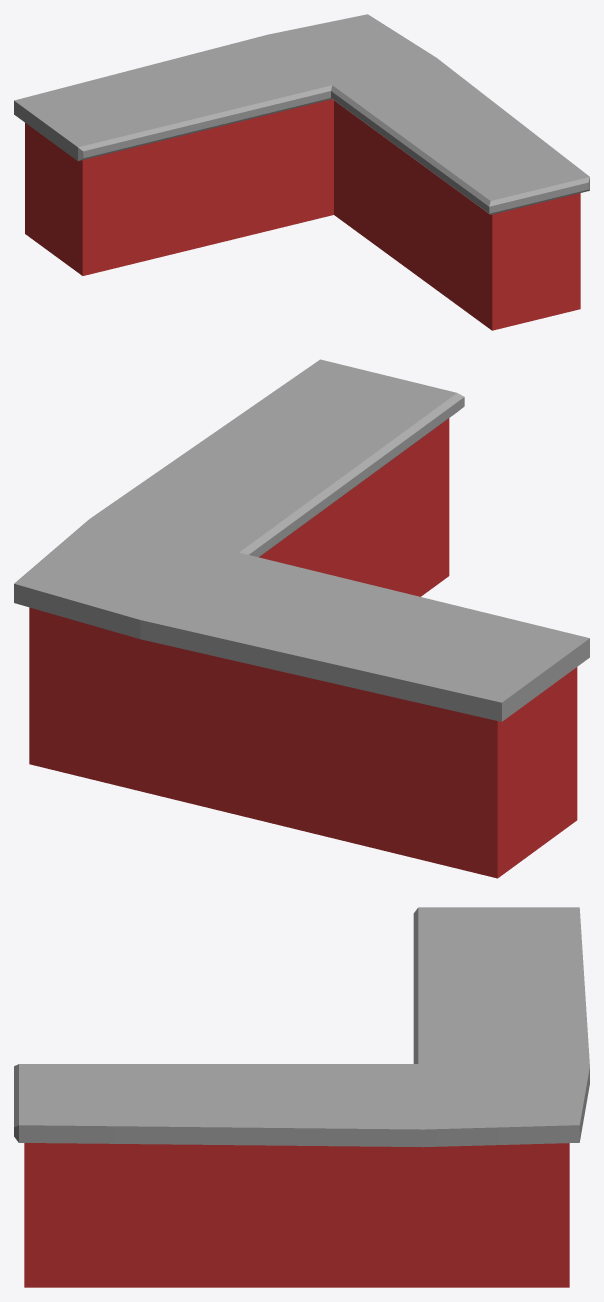
File: palcare.fbx
3 views of the same model, one above another, from view 1: azimuth 30°, elevation 25°; view 2: azimuth 150°, elevation 25°; view 3: azimuth 270°, elevation 25° (orthographic). The views are drawn at different scales.
Visible parts, largest first — view 1: pCube8; view 2: pCube8; view 3: pCube8.
Boxes of the visible parts, x1=… form: pCube8: x1=14, y1=14, x2=589, y2=330; pCube8: x1=14, y1=359, x2=589, y2=878; pCube8: x1=14, y1=907, x2=589, y2=1287.
Bounding box in the file's own units: 22.8 × 7.98 × 24.97.
